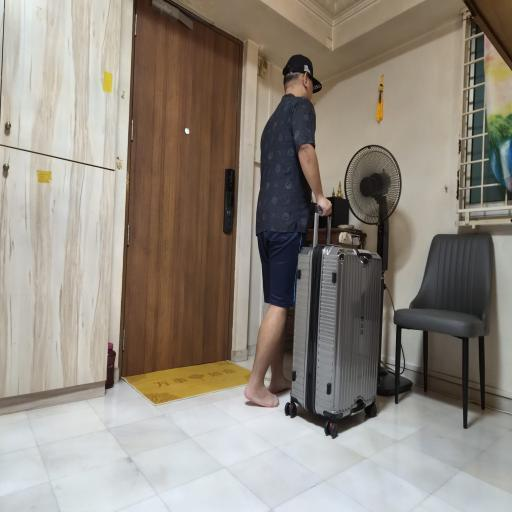person_right: (241, 28, 404, 436)
